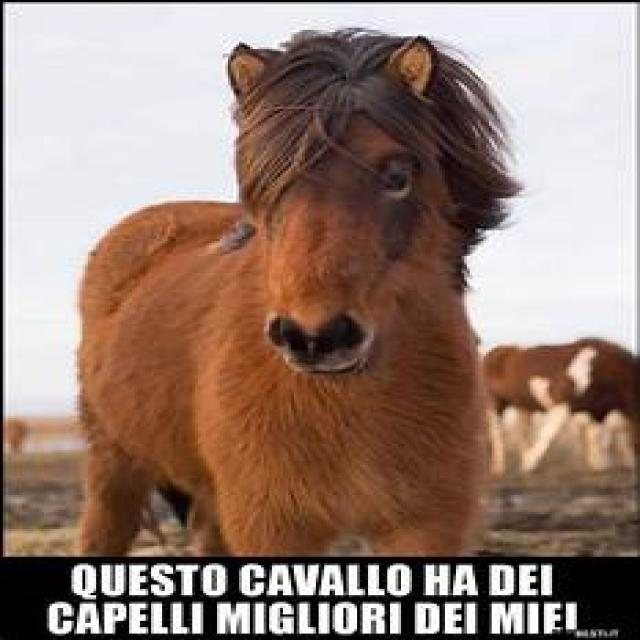horse: (72, 26, 524, 556)
